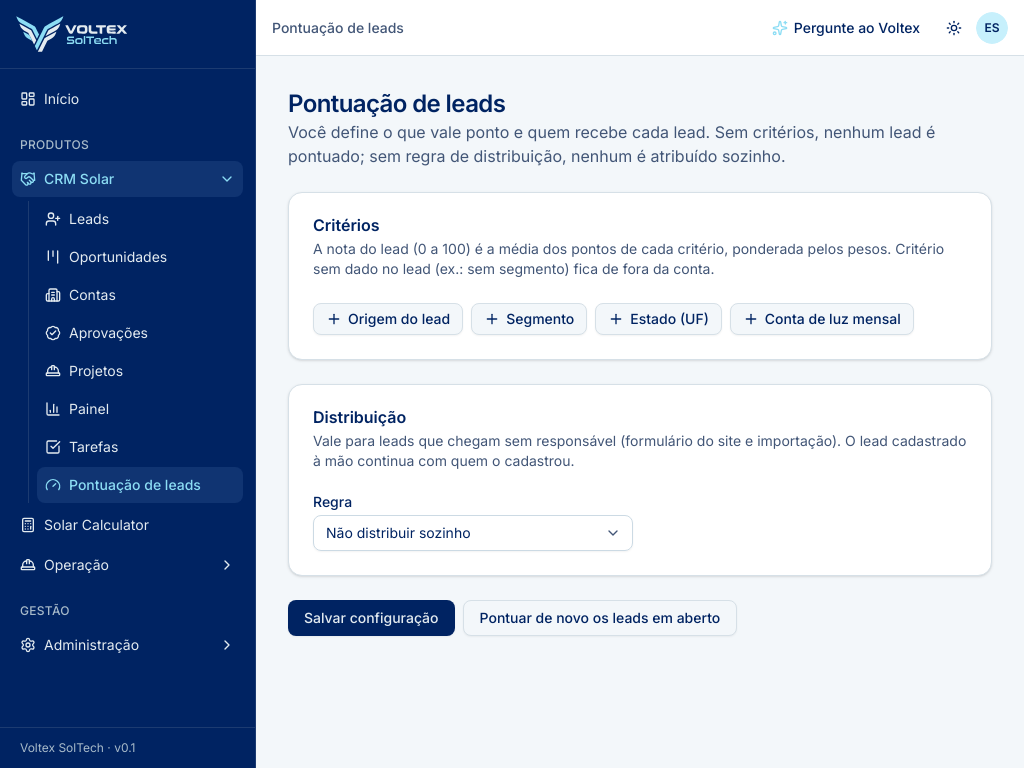
Test: Configuração da pontuação › repontuar os leads em aberto mostra quantos foram atualizados
Click the button "Pontuar de novo os leads em aberto" at (600, 618), box top-left (462, 600), bottom-right (737, 636)
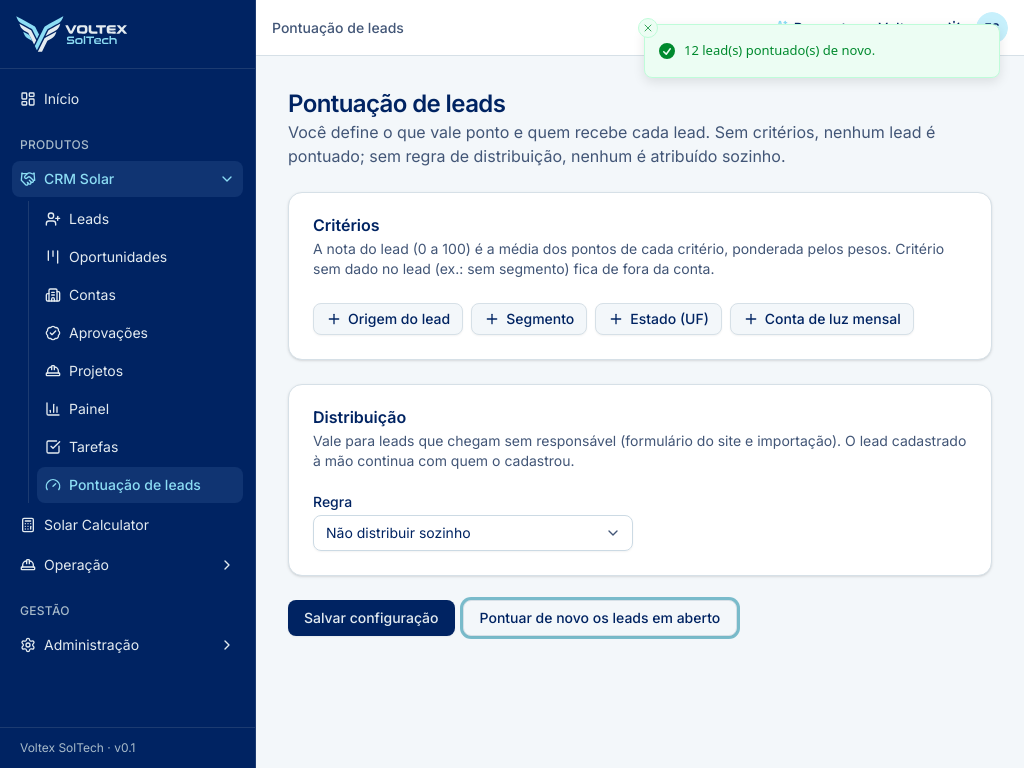
Expected: the text "12 lead(s) pontuado(s) de novo." is shown, top-left (684, 41), bottom-right (875, 60)
